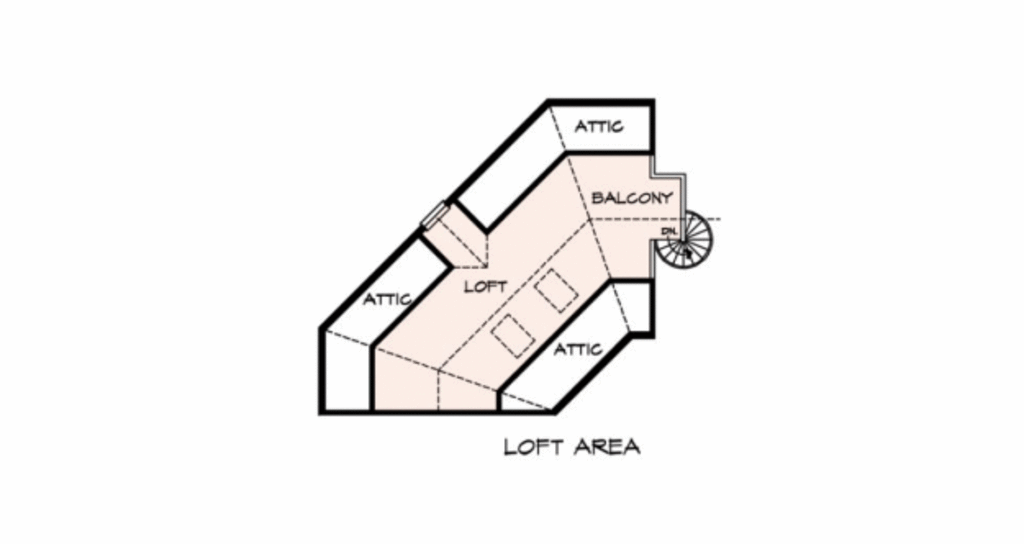stairs: (649, 205, 727, 269)
window: (409, 193, 467, 233)
